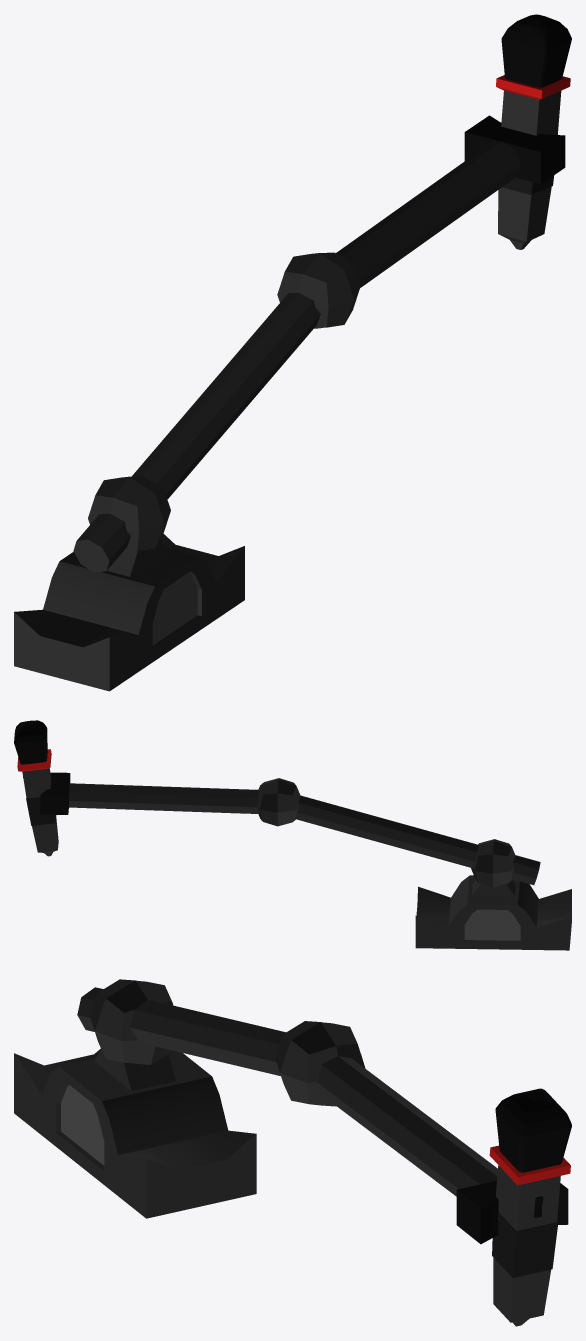
Rendered from Mic Arm.fbx.
3 renders of one model, top to bottom at view 1: azimuth 30°, elevation 25°; view 2: azimuth 150°, elevation 25°; view 3: azimuth 270°, elevation 25°, orthographic. The views are drawn at different scales.
Visible parts, largest first — view 1: Node 0, Node 1; view 2: Node 0, Node 1; view 3: Node 0, Node 1.
Part boxes in pixels (left/top/right/bottom): Node 0: left=14, top=115, right=565, bottom=691; Node 1: left=496, top=14, right=571, bottom=249; Node 0: left=40, top=772, right=571, bottom=950; Node 1: left=14, top=720, right=58, bottom=856; Node 0: left=14, top=979, right=568, bottom=1244; Node 1: left=489, top=1088, right=571, bottom=1326.
Size of the model in its own units: 0.2463 by 0.1836 by 0.4161.
